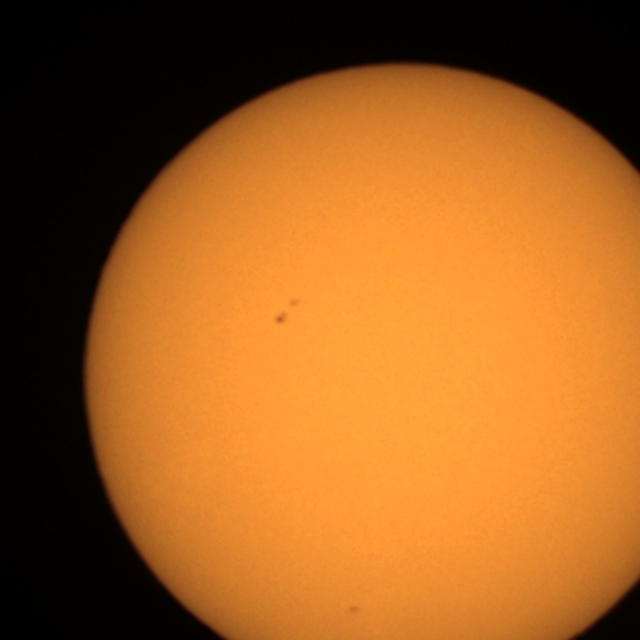sunspot: (272, 299, 298, 328)
